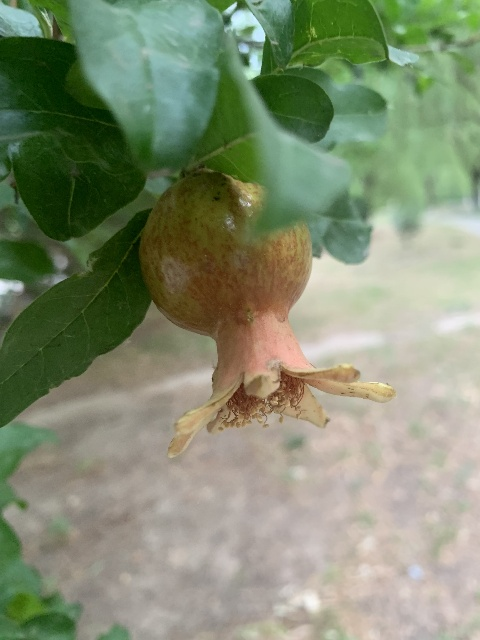early-fruit: (142, 167, 391, 450)
